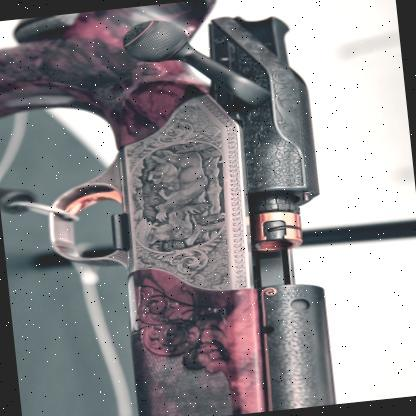rifle: (0, 0, 367, 416)
